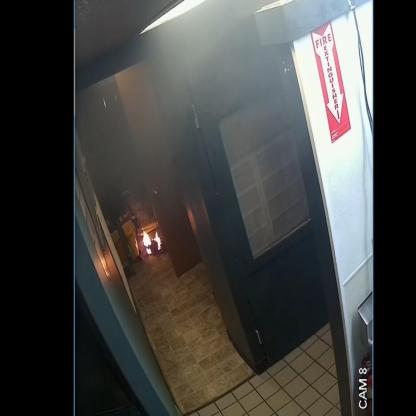fire: (142, 231, 152, 254), (152, 232, 162, 250)
